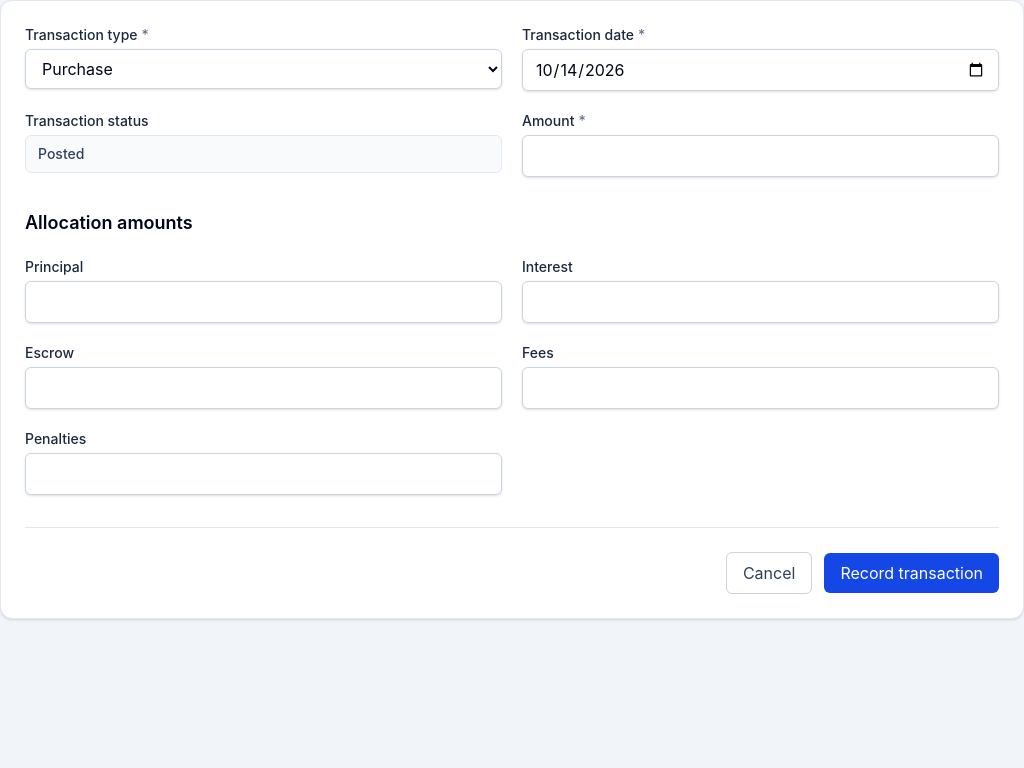
Test: debt maintenance application › defaults credit-card balance-increasing entry to Purchase/Charge
The width and height of the screenshot is (1024, 768).
Expected: the dropdown labelled "Transaction type*" shows "Purchase", [25,49,502,89]
Type "125.00" into the field labelled "Amount" at point(760, 156), box [522,135,999,177]
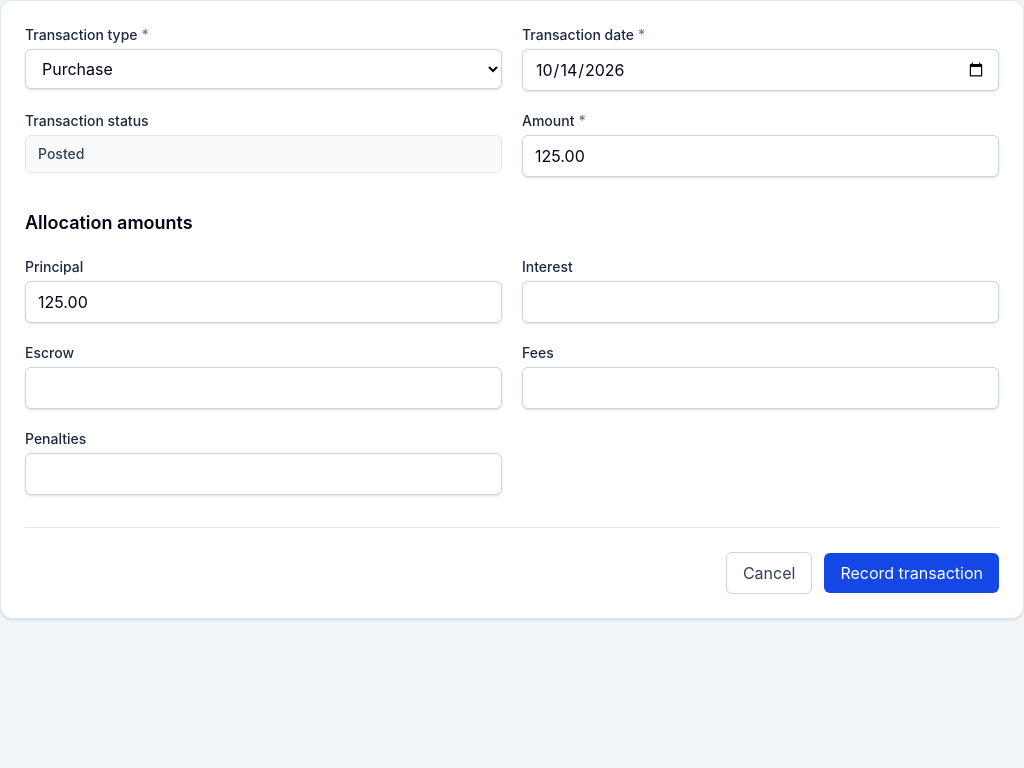
Result: the field labelled "Principal" holds "125.00" at [25,281,502,323]
